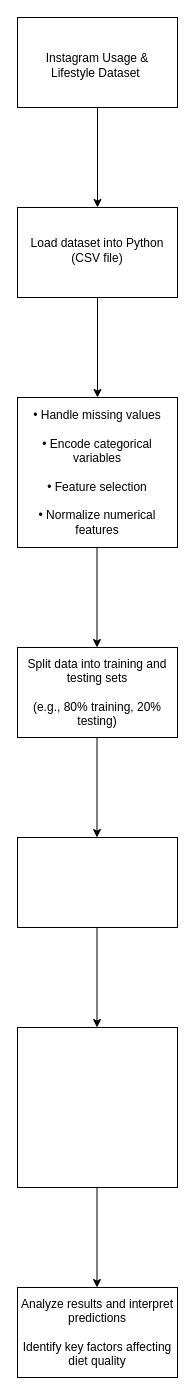
Some shapes in this 195 by 1395 pixel diagram are drawn without their labels. The shapes that lost their labels are listed below. From the top down, each one's centre as x and y in pixels, then its label:
At [97,882]: "Train classification model (e.g., Decision Tree / Random Forest)".
At [97,1107]: "Evaluate model performance • Accuracy • Precision • Recall • Confusion Matrix".
